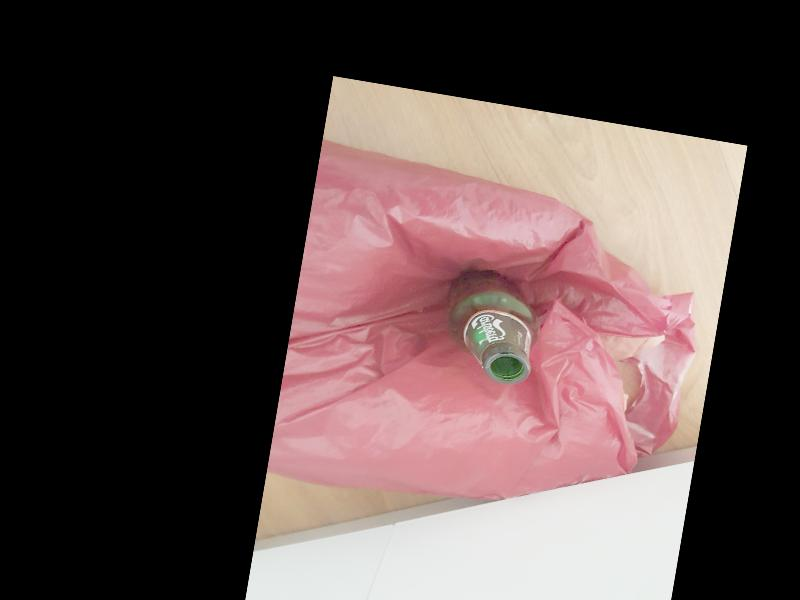Beer: (439, 263, 545, 386)
